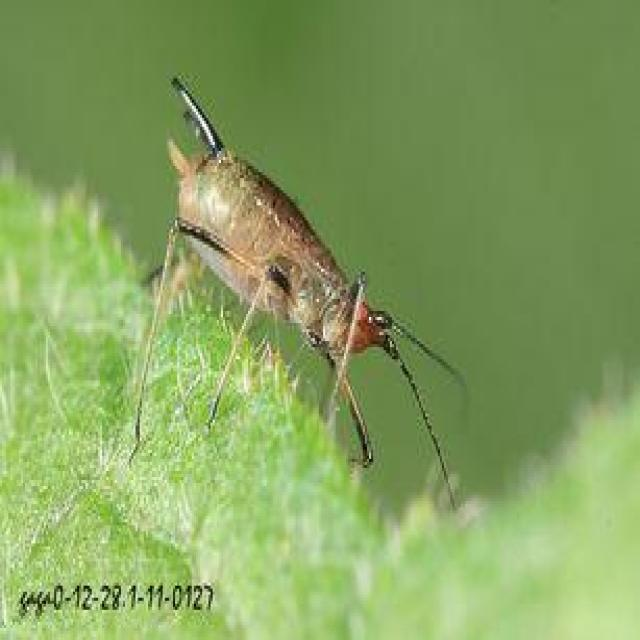Aphids: (132, 62, 516, 539)
